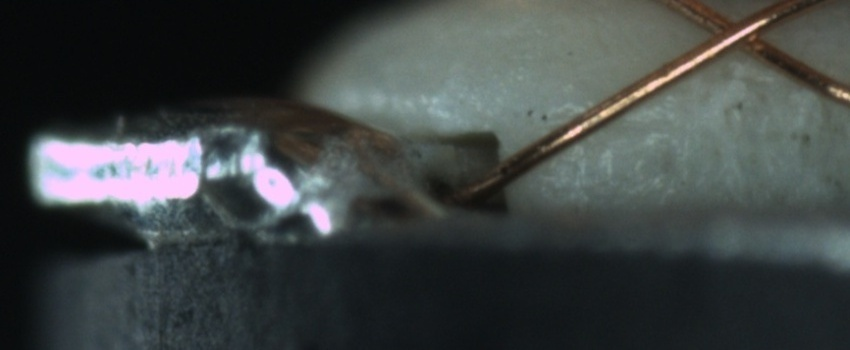CL: (685, 2, 787, 65)
DL: (538, 98, 679, 150)
